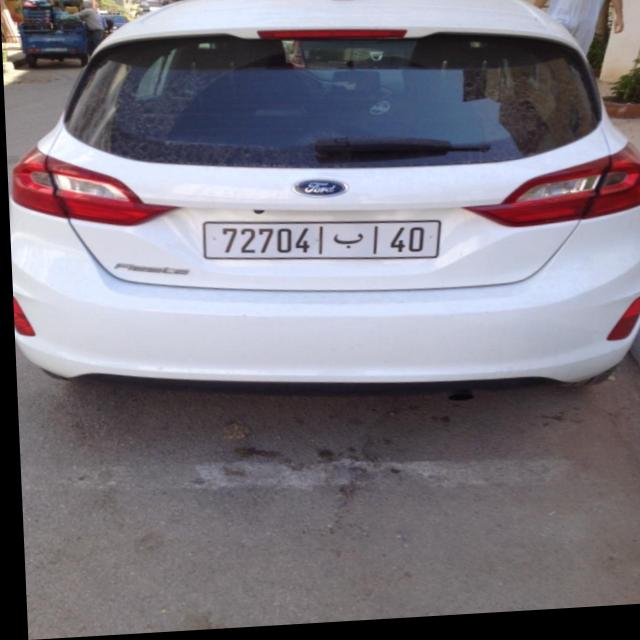License-Plate: (202, 224, 439, 264)
